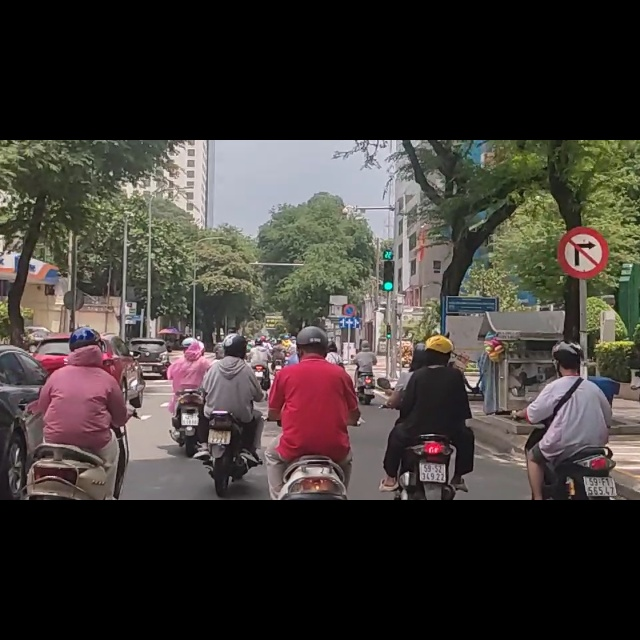bien_chi_dan: (558, 151, 611, 248), (340, 288, 356, 314)
